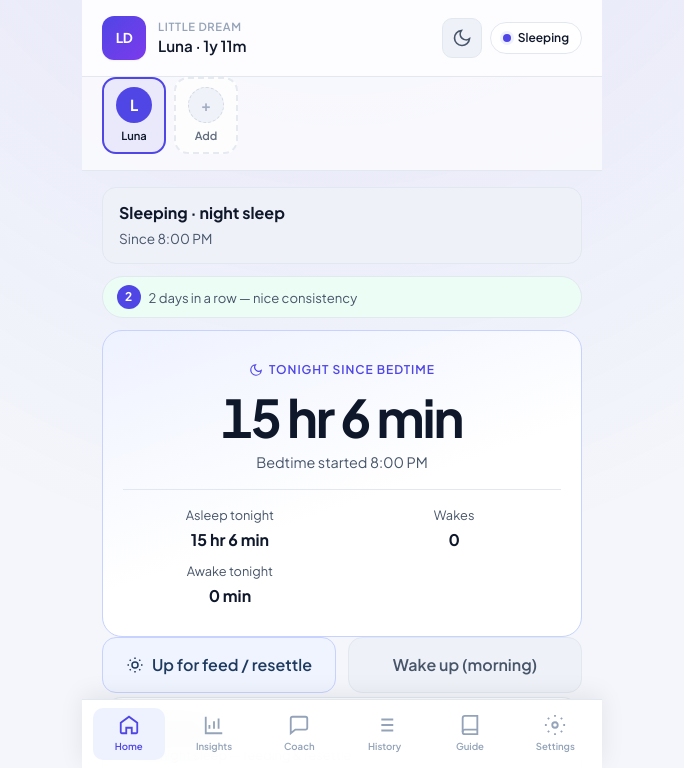
Test case: App › shows night wake time prompt during bedtime
Click the button "Up for feed / resettle".
click(219, 665)  # box [102, 637, 336, 693]
(page scrolled)
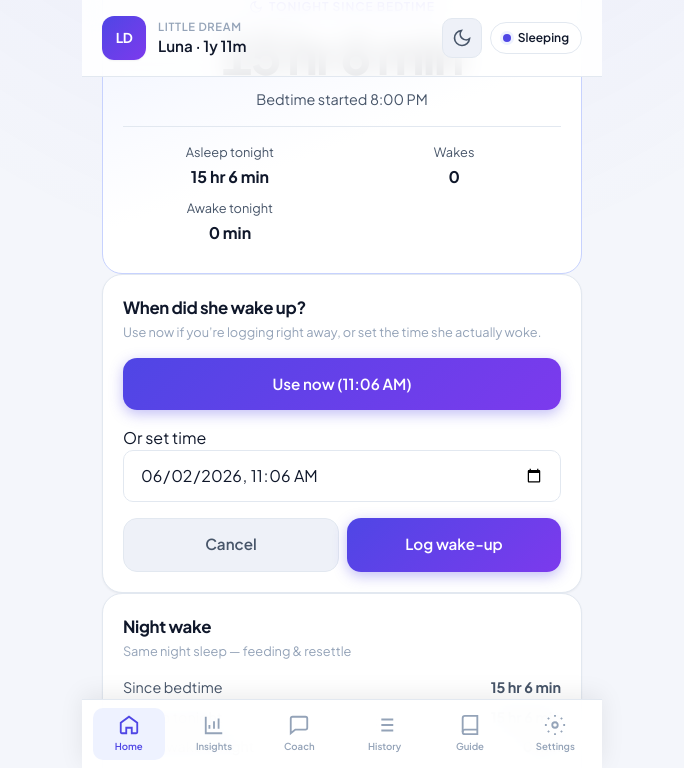
Now the heading "When did she wake up?" is shown, box [123, 297, 306, 318]
Click the button "Use now (11:06 AM)".
click(342, 384)  # box [123, 358, 561, 410]
(page scrolled)
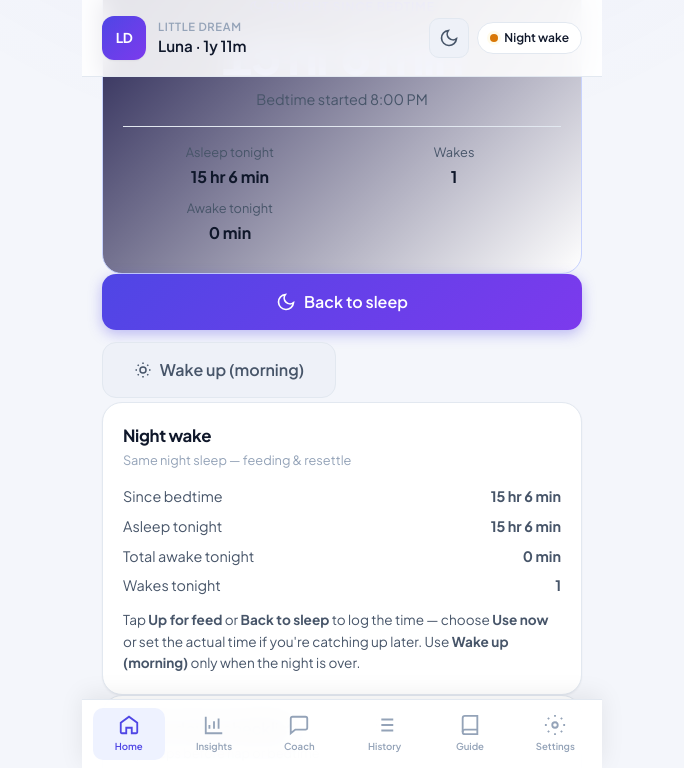
Now the button "Back to sleep" is shown, box [102, 274, 582, 330]
